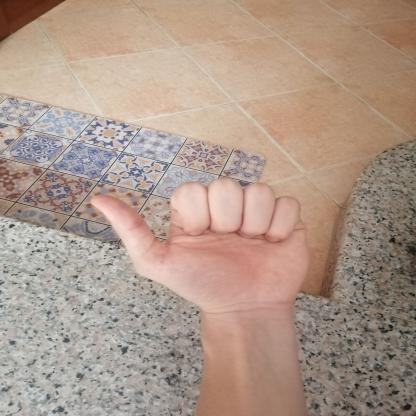DAD: (76, 169, 324, 320)
